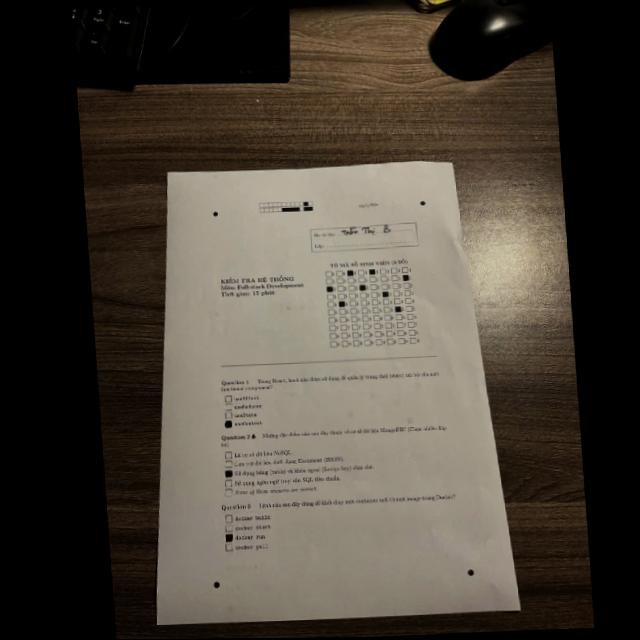Markers: (211, 581, 218, 588), (466, 568, 472, 575), (212, 211, 217, 216), (419, 200, 424, 205)
